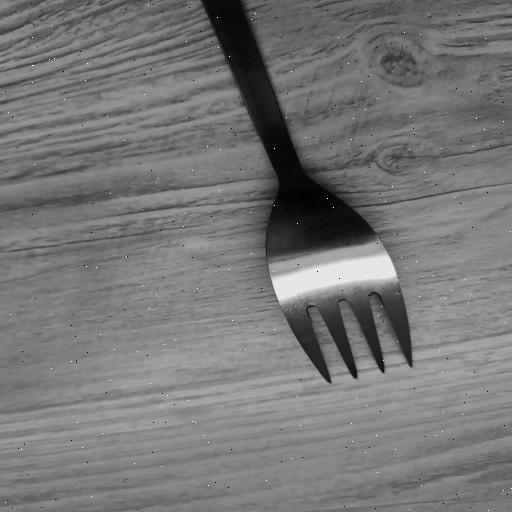fork: (191, 0, 415, 389)
